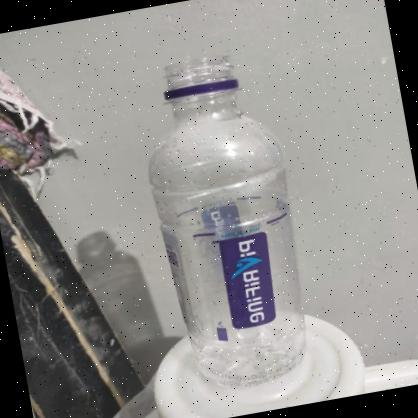bottle: (122, 29, 321, 403)
label: (153, 191, 312, 359)
